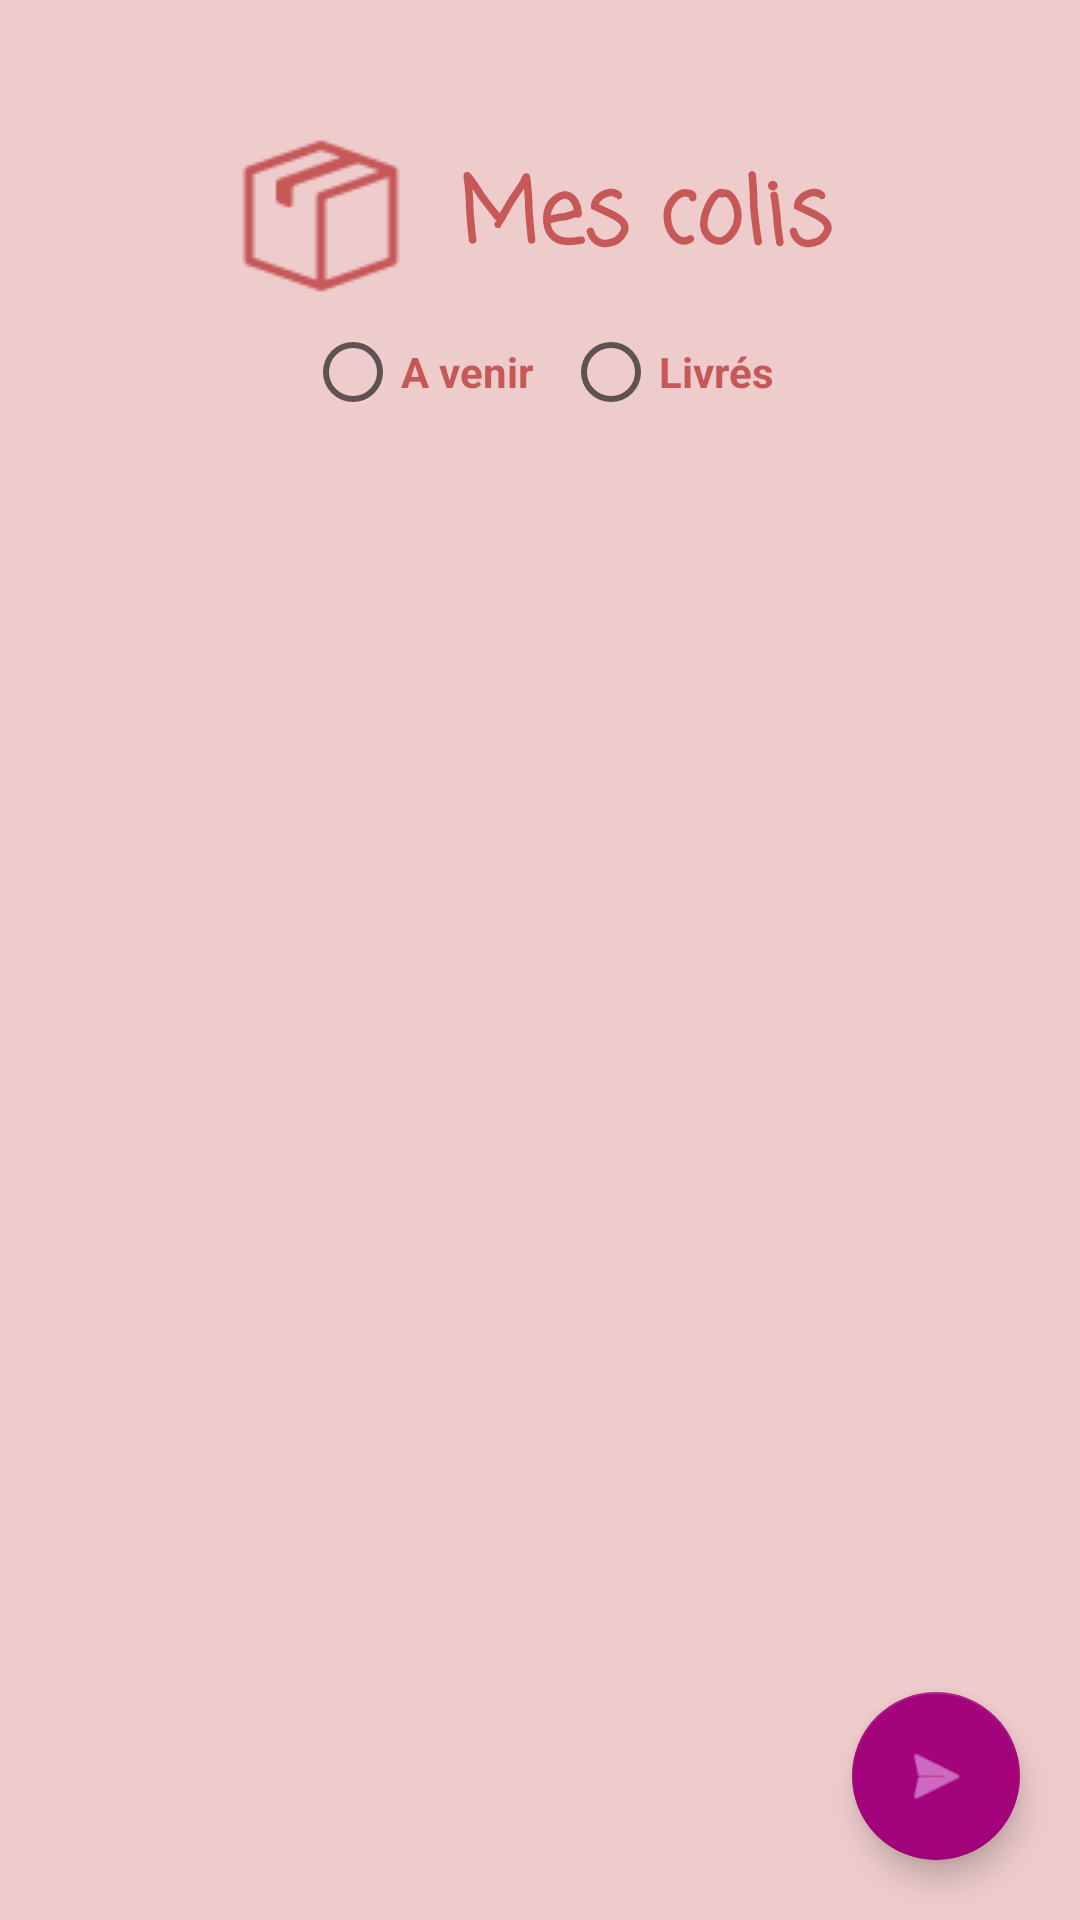

Point at icon controls on the screen. Image size 1080 x 1920, points as (x=x, y=y).
send: (x=936, y=1776)
